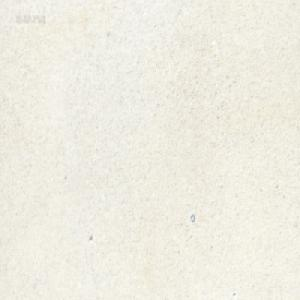Washer: (189, 213, 194, 222)
